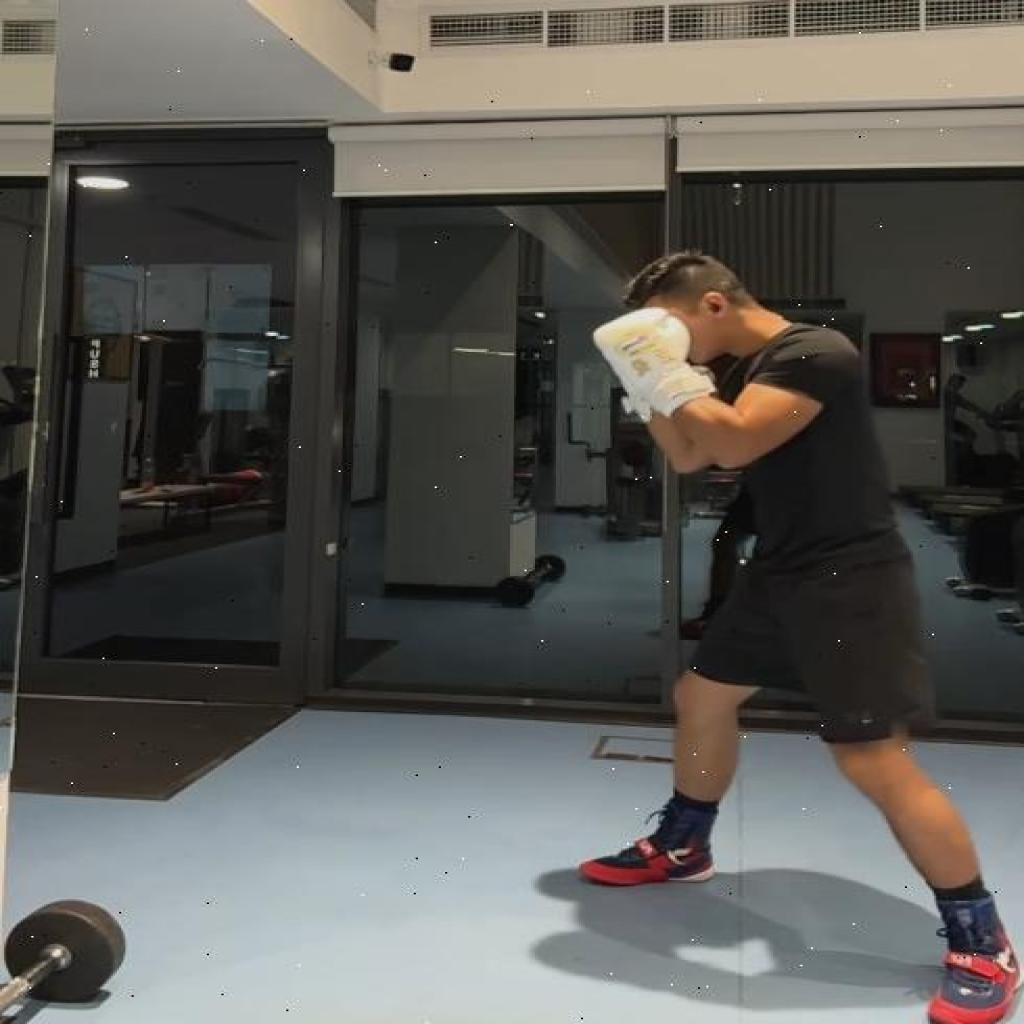no punch: (577, 246, 1024, 1024)
